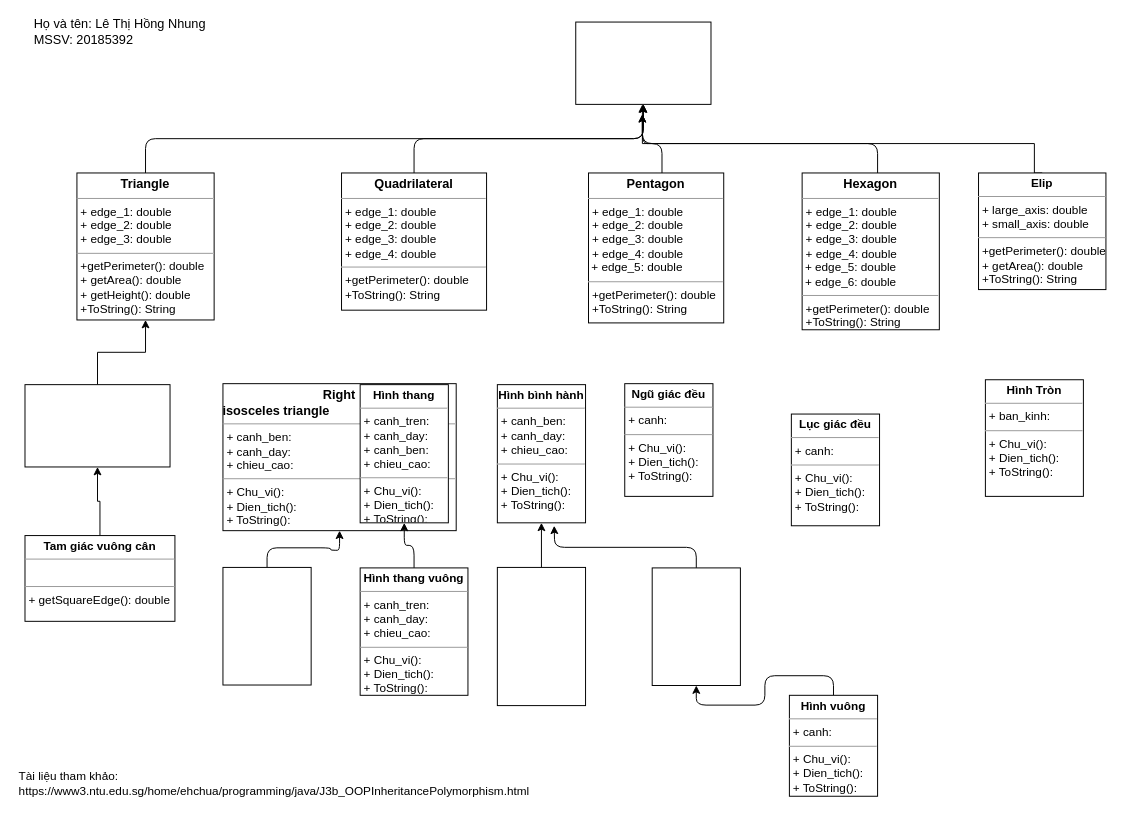
Image size: 1125x833. Some labels were removed from this diagram. The shapes that lost their labels are listed below. From the top down, each one's centre as x and y in pixels, then its label:
At (x=643, y=62): "<<interface>> Shape +getPerimeter(): double +ToString(): String".
At (x=97, y=425): "Right_Triangle + getHypotenuse(): double".
At (x=266, y=625): "Tam giác đều + canh: + chieu_cao: + Chu_vi(): + Dien_tich(): + ToString():".
At (x=541, y=636): "Hình thoi + canh: + chieu_cao: + Chu_vi(): + Dien_tich(): + ToString():".
At (x=695, y=626): "Hình chữ nhật + chieu_rong: + canh_dai: + Chu_vi(): + Dien_tich(): + ToString():".
